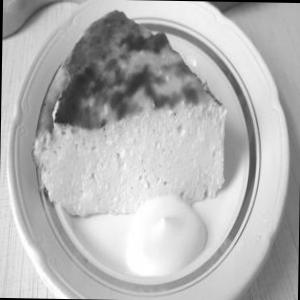omelet: (11, 10, 244, 222)
